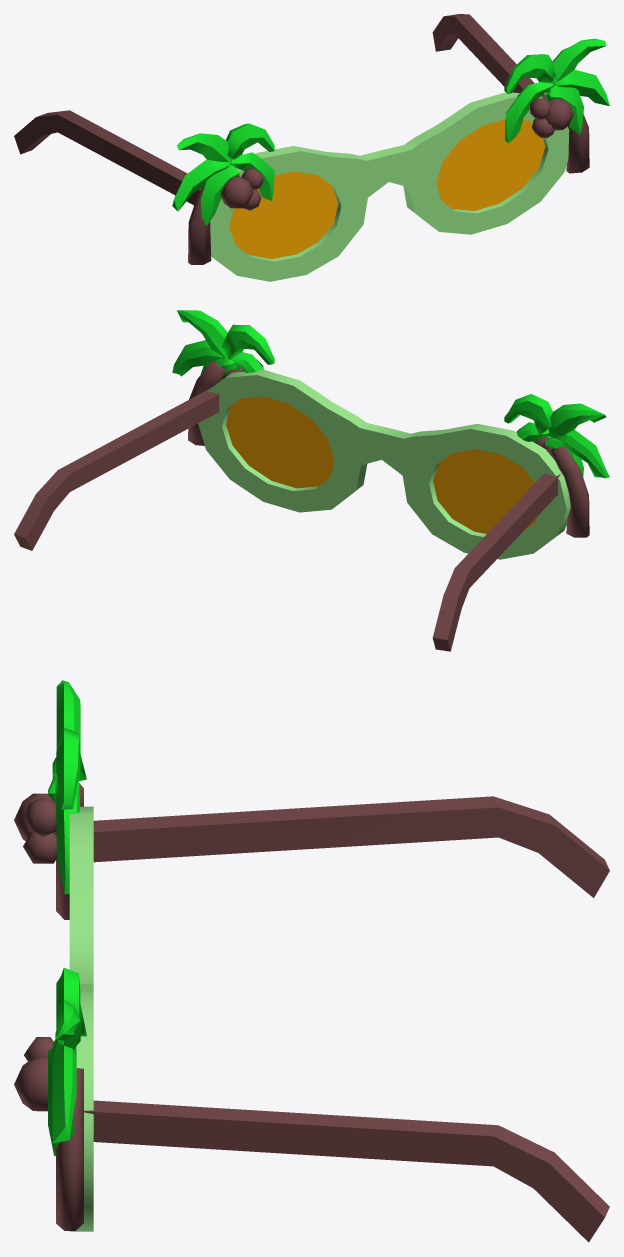
The model's file is Glasses_with_palm_trees.fbx.
3 views of the same model, one above another, from view 1: azimuth 30°, elevation 25°; view 2: azimuth 150°, elevation 25°; view 3: azimuth 270°, elevation 25° (orthographic). The views are drawn at different scales.
Parts seen in each view (by area): view 1: Glasses_with_palm_trees.c, Glasses_stick_26, Glasses_stick_25; view 2: Glasses_with_palm_trees.c, Glasses_stick_25, Glasses_stick_26; view 3: Glasses_with_palm_trees.c, Glasses_stick_25, Glasses_stick_26.
Part boxes in pixels (x1,y1,x2,y2): Glasses_with_palm_trees.c: [172, 38, 609, 281]; Glasses_stick_26: [14, 110, 201, 205]; Glasses_stick_25: [432, 14, 545, 98]; Glasses_with_palm_trees.c: [172, 310, 609, 559]; Glasses_stick_25: [14, 388, 219, 550]; Glasses_stick_26: [432, 473, 560, 651]; Glasses_with_palm_trees.c: [14, 680, 93, 1231]; Glasses_stick_25: [84, 1100, 609, 1242]; Glasses_stick_26: [93, 796, 609, 897].
Size of the model in its own units: 0.707 by 0.2637 by 0.4973.
